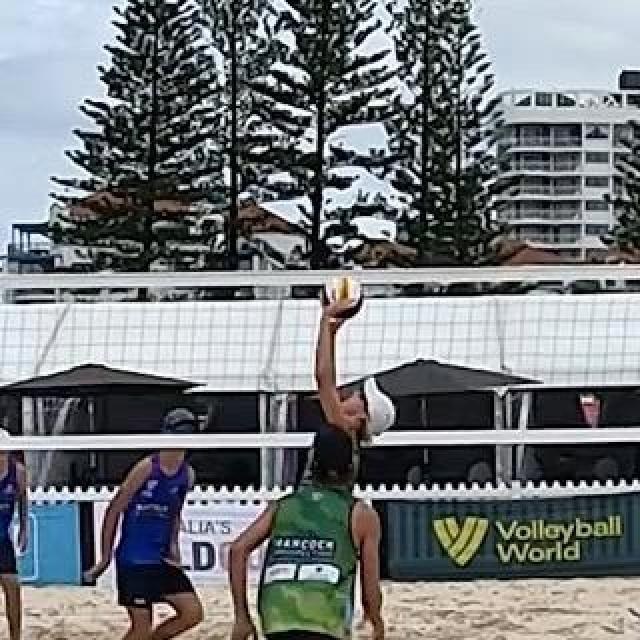volleyball: (322, 276, 364, 320)
